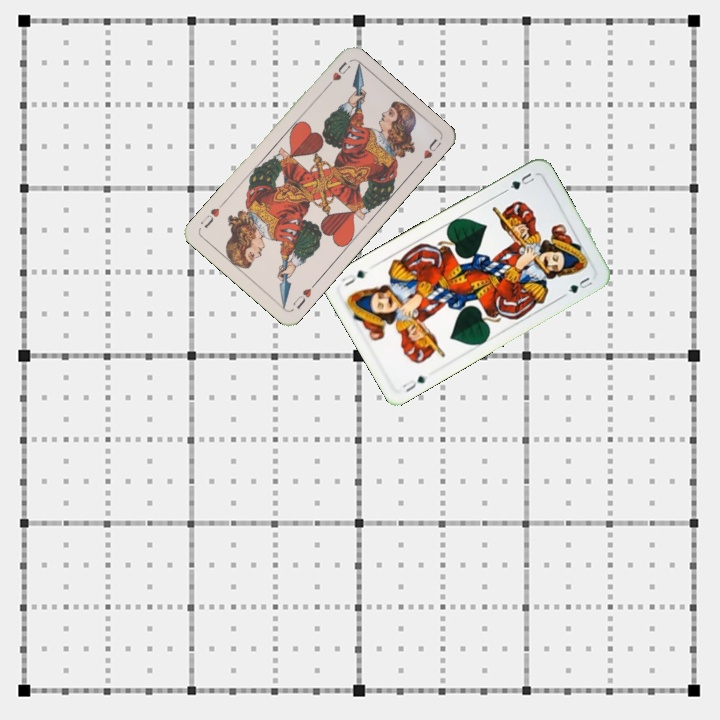GU: (506, 168, 538, 192), (398, 371, 430, 395)
HU: (321, 58, 353, 91), (288, 279, 319, 312)
